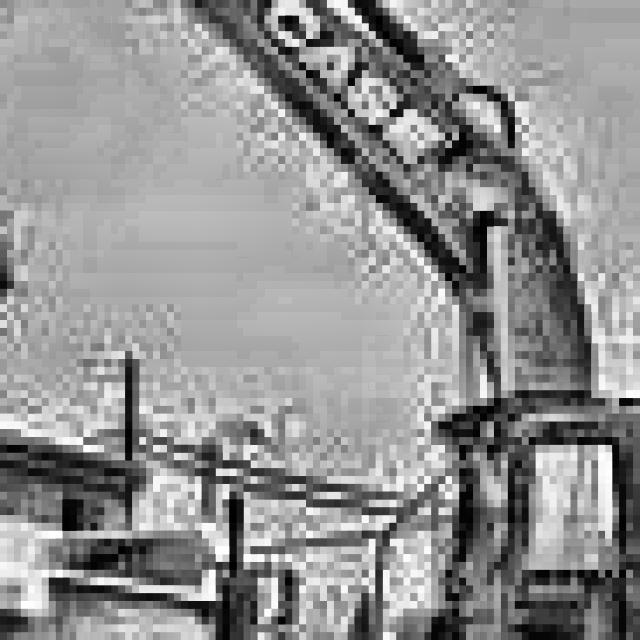excavator: (181, 335, 640, 640)
